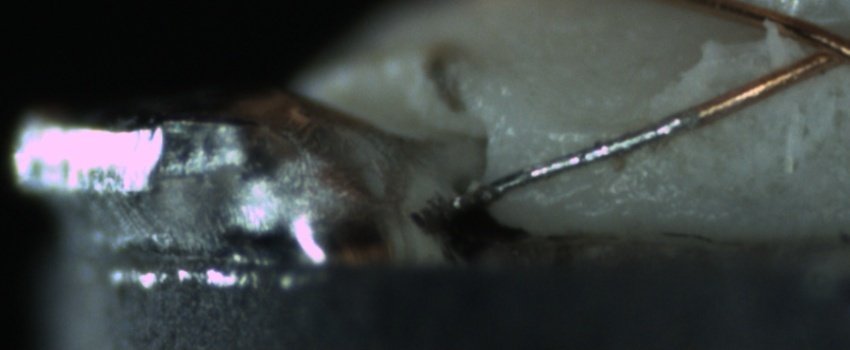CL: (774, 15, 850, 82)
DL: (528, 100, 622, 164)
TS: (473, 113, 689, 206)
TTCW: (456, 80, 766, 215)
